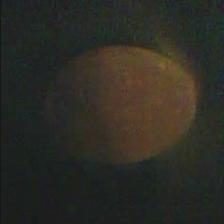fertile: (51, 44, 199, 163)
